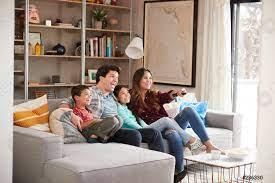light: (126, 29, 146, 67)
sofa: (13, 98, 242, 183)
table: (184, 148, 256, 183)
